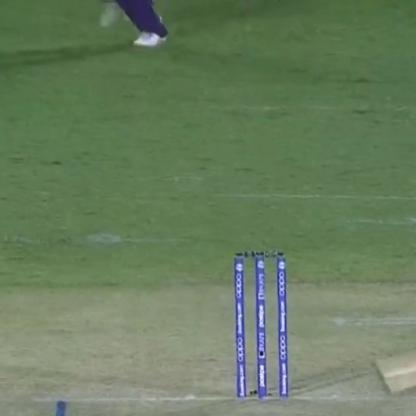bat: (375, 334, 415, 391)
